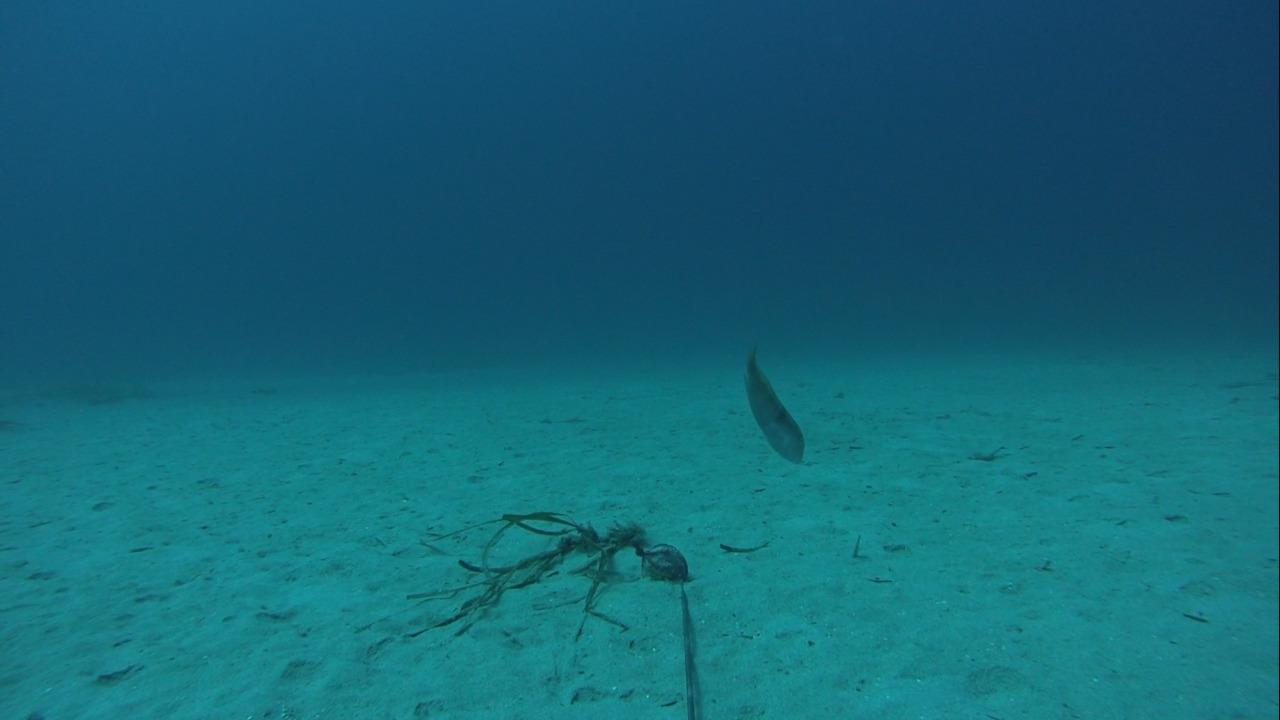raor: (736, 343, 813, 469)
